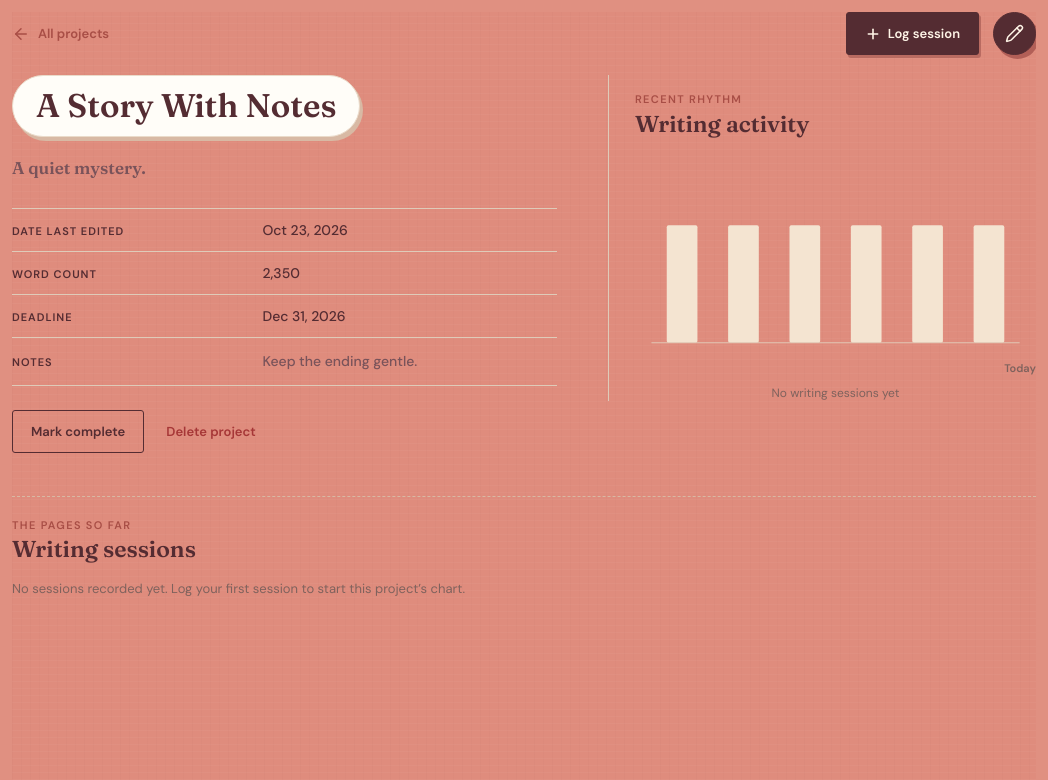
Test: ProjectDetail › saves edited fields and returns to the detail view
The image size is (1048, 780).
Click the button named "Edit project". click: (1014, 34)
box: 993,12 -> 1036,55
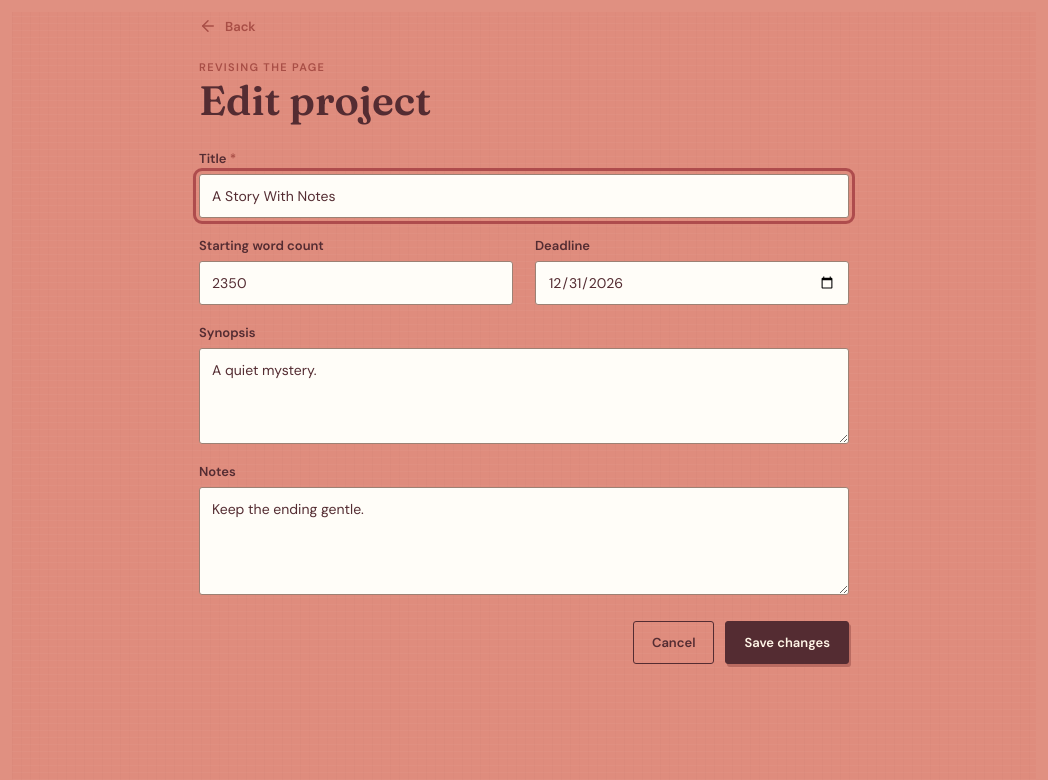
Expected: the field labelled "Starting word count" holds "2350", 199,261 -> 513,305
Expected: the date field labelled "Deadline" holds "2026-12-31", 535,261 -> 849,305
Expected: the text box labelled "Synopsis" holds "A quiet mystery.", 199,348 -> 849,444
Replace the text in the field labelled "Title *" with "A Louder Story". click: (524, 196)
box: 199,174 -> 849,218
Replace the text in the field labelled "Starting word count" with "3000". click: (356, 283)
box: 199,261 -> 513,305
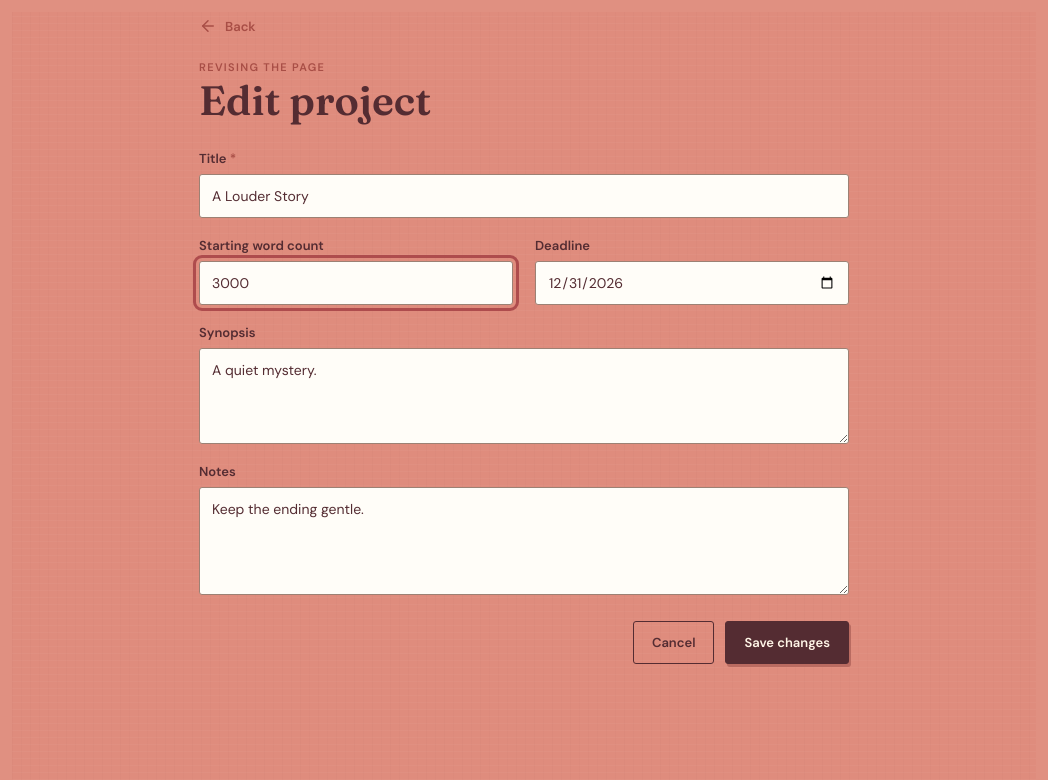
Clear the date field labelled "Deadline". click: (692, 283)
box: 535,261 -> 849,305
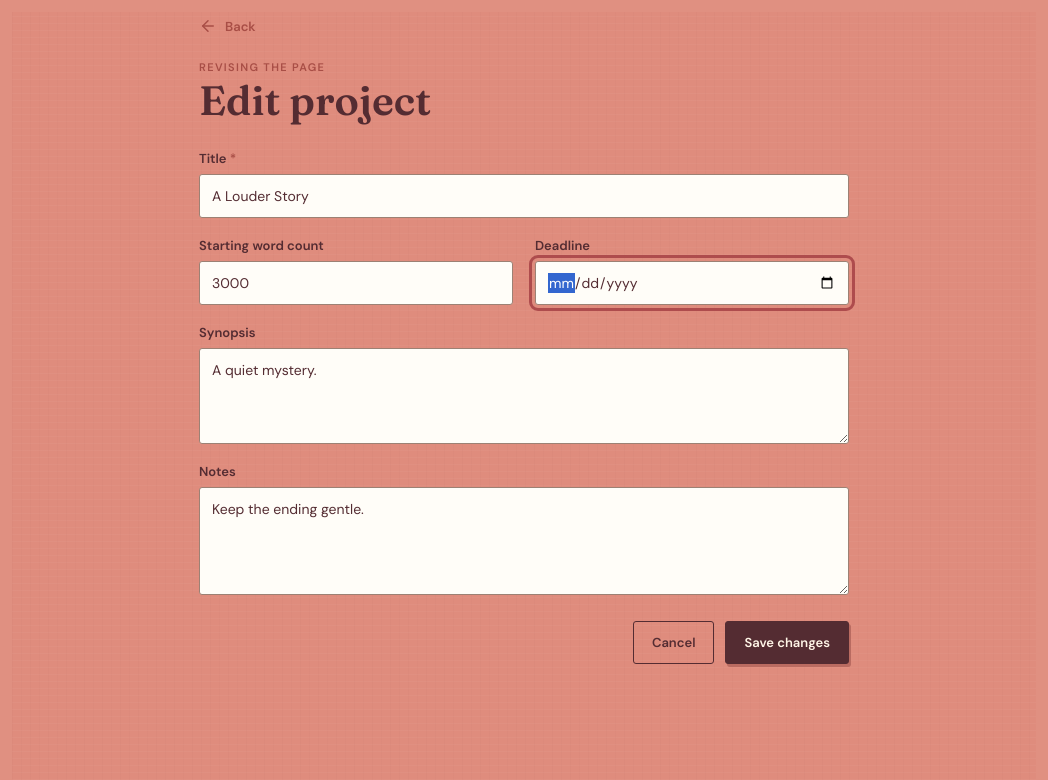
Clear the text box labelled "Synopsis". click: (524, 396)
box: 199,348 -> 849,444
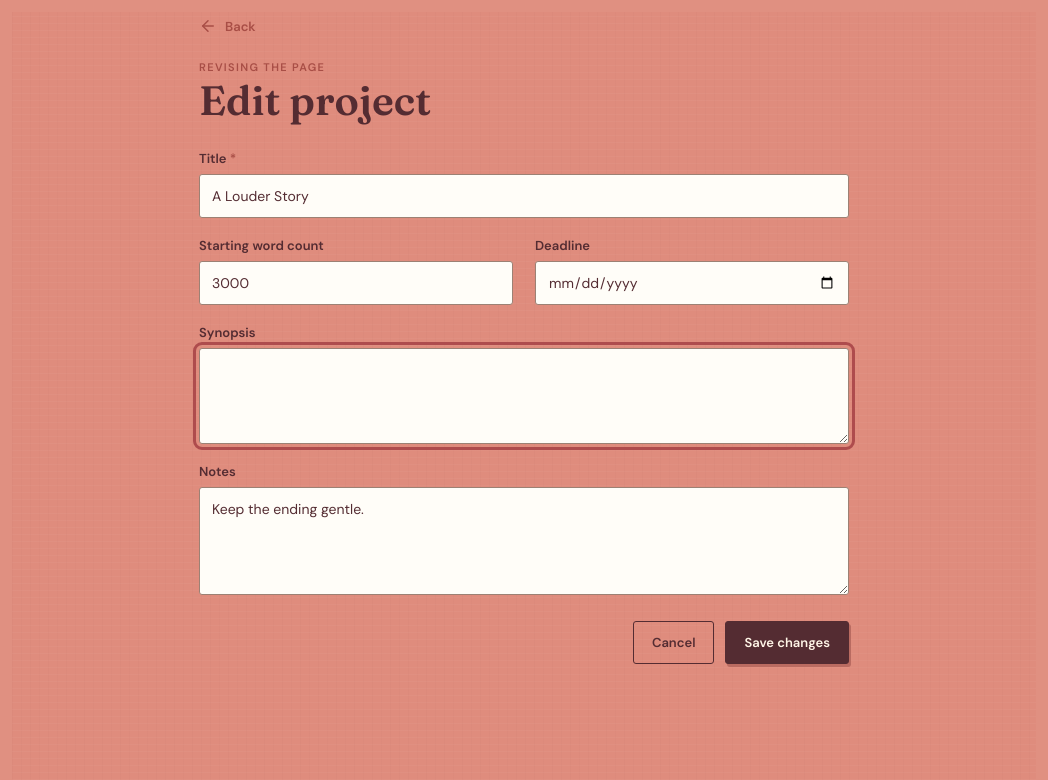
Replace the text in the text box labelled "Notes" with "New notes". click: (524, 541)
box: 199,487 -> 849,595
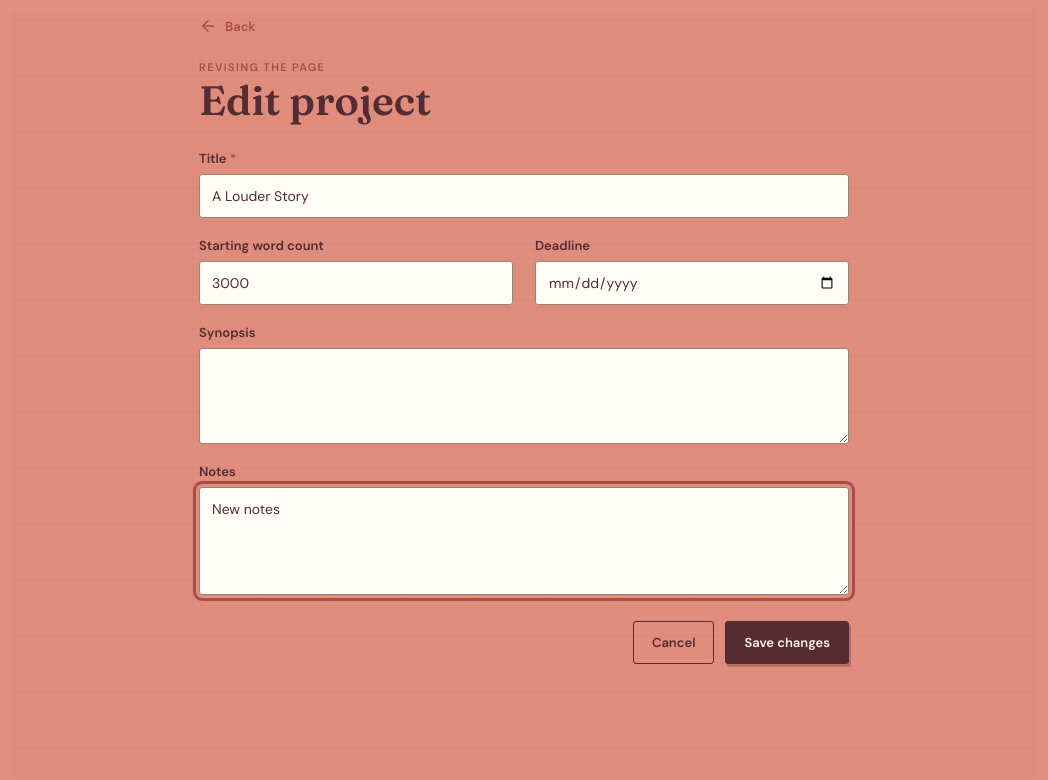
Click the button "Save changes". click: (787, 642)
box: 726,621 -> 849,664
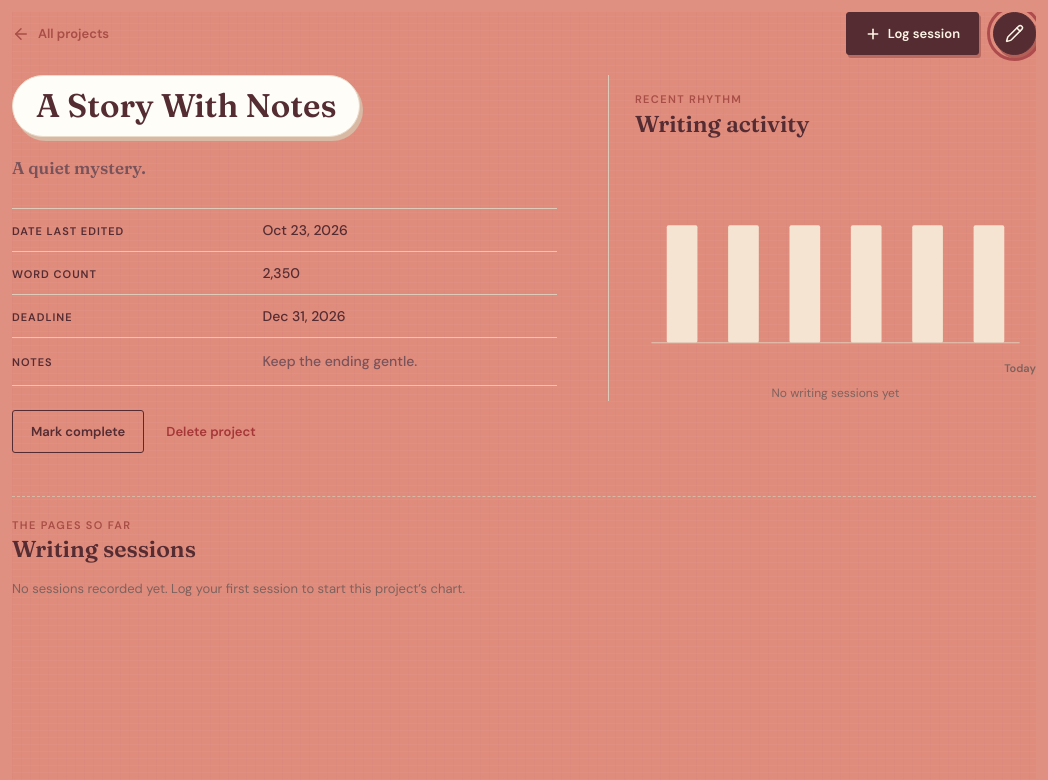
Expected: the button named "Edit project" is shown, 993,12 -> 1036,55
